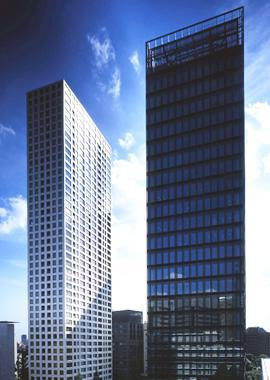affected: (142, 7, 252, 373), (26, 67, 118, 380)
